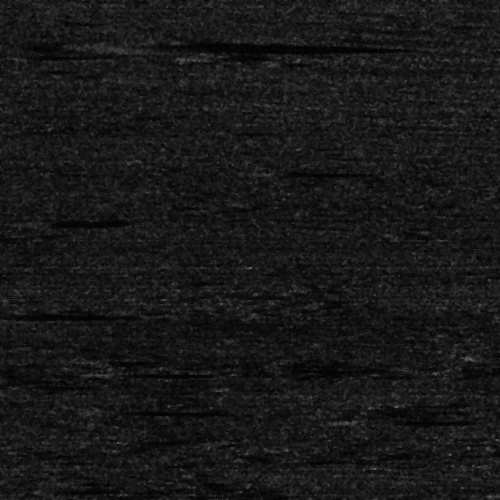object: (83, 38, 176, 49), (56, 406, 149, 413), (60, 370, 123, 375), (22, 219, 75, 224), (244, 169, 285, 174), (0, 310, 19, 319), (352, 419, 383, 422), (493, 492, 500, 495)
shadow: (130, 38, 351, 49), (0, 310, 97, 319), (103, 406, 204, 413), (265, 169, 354, 174), (48, 219, 125, 224), (92, 370, 168, 375), (368, 419, 398, 422)
